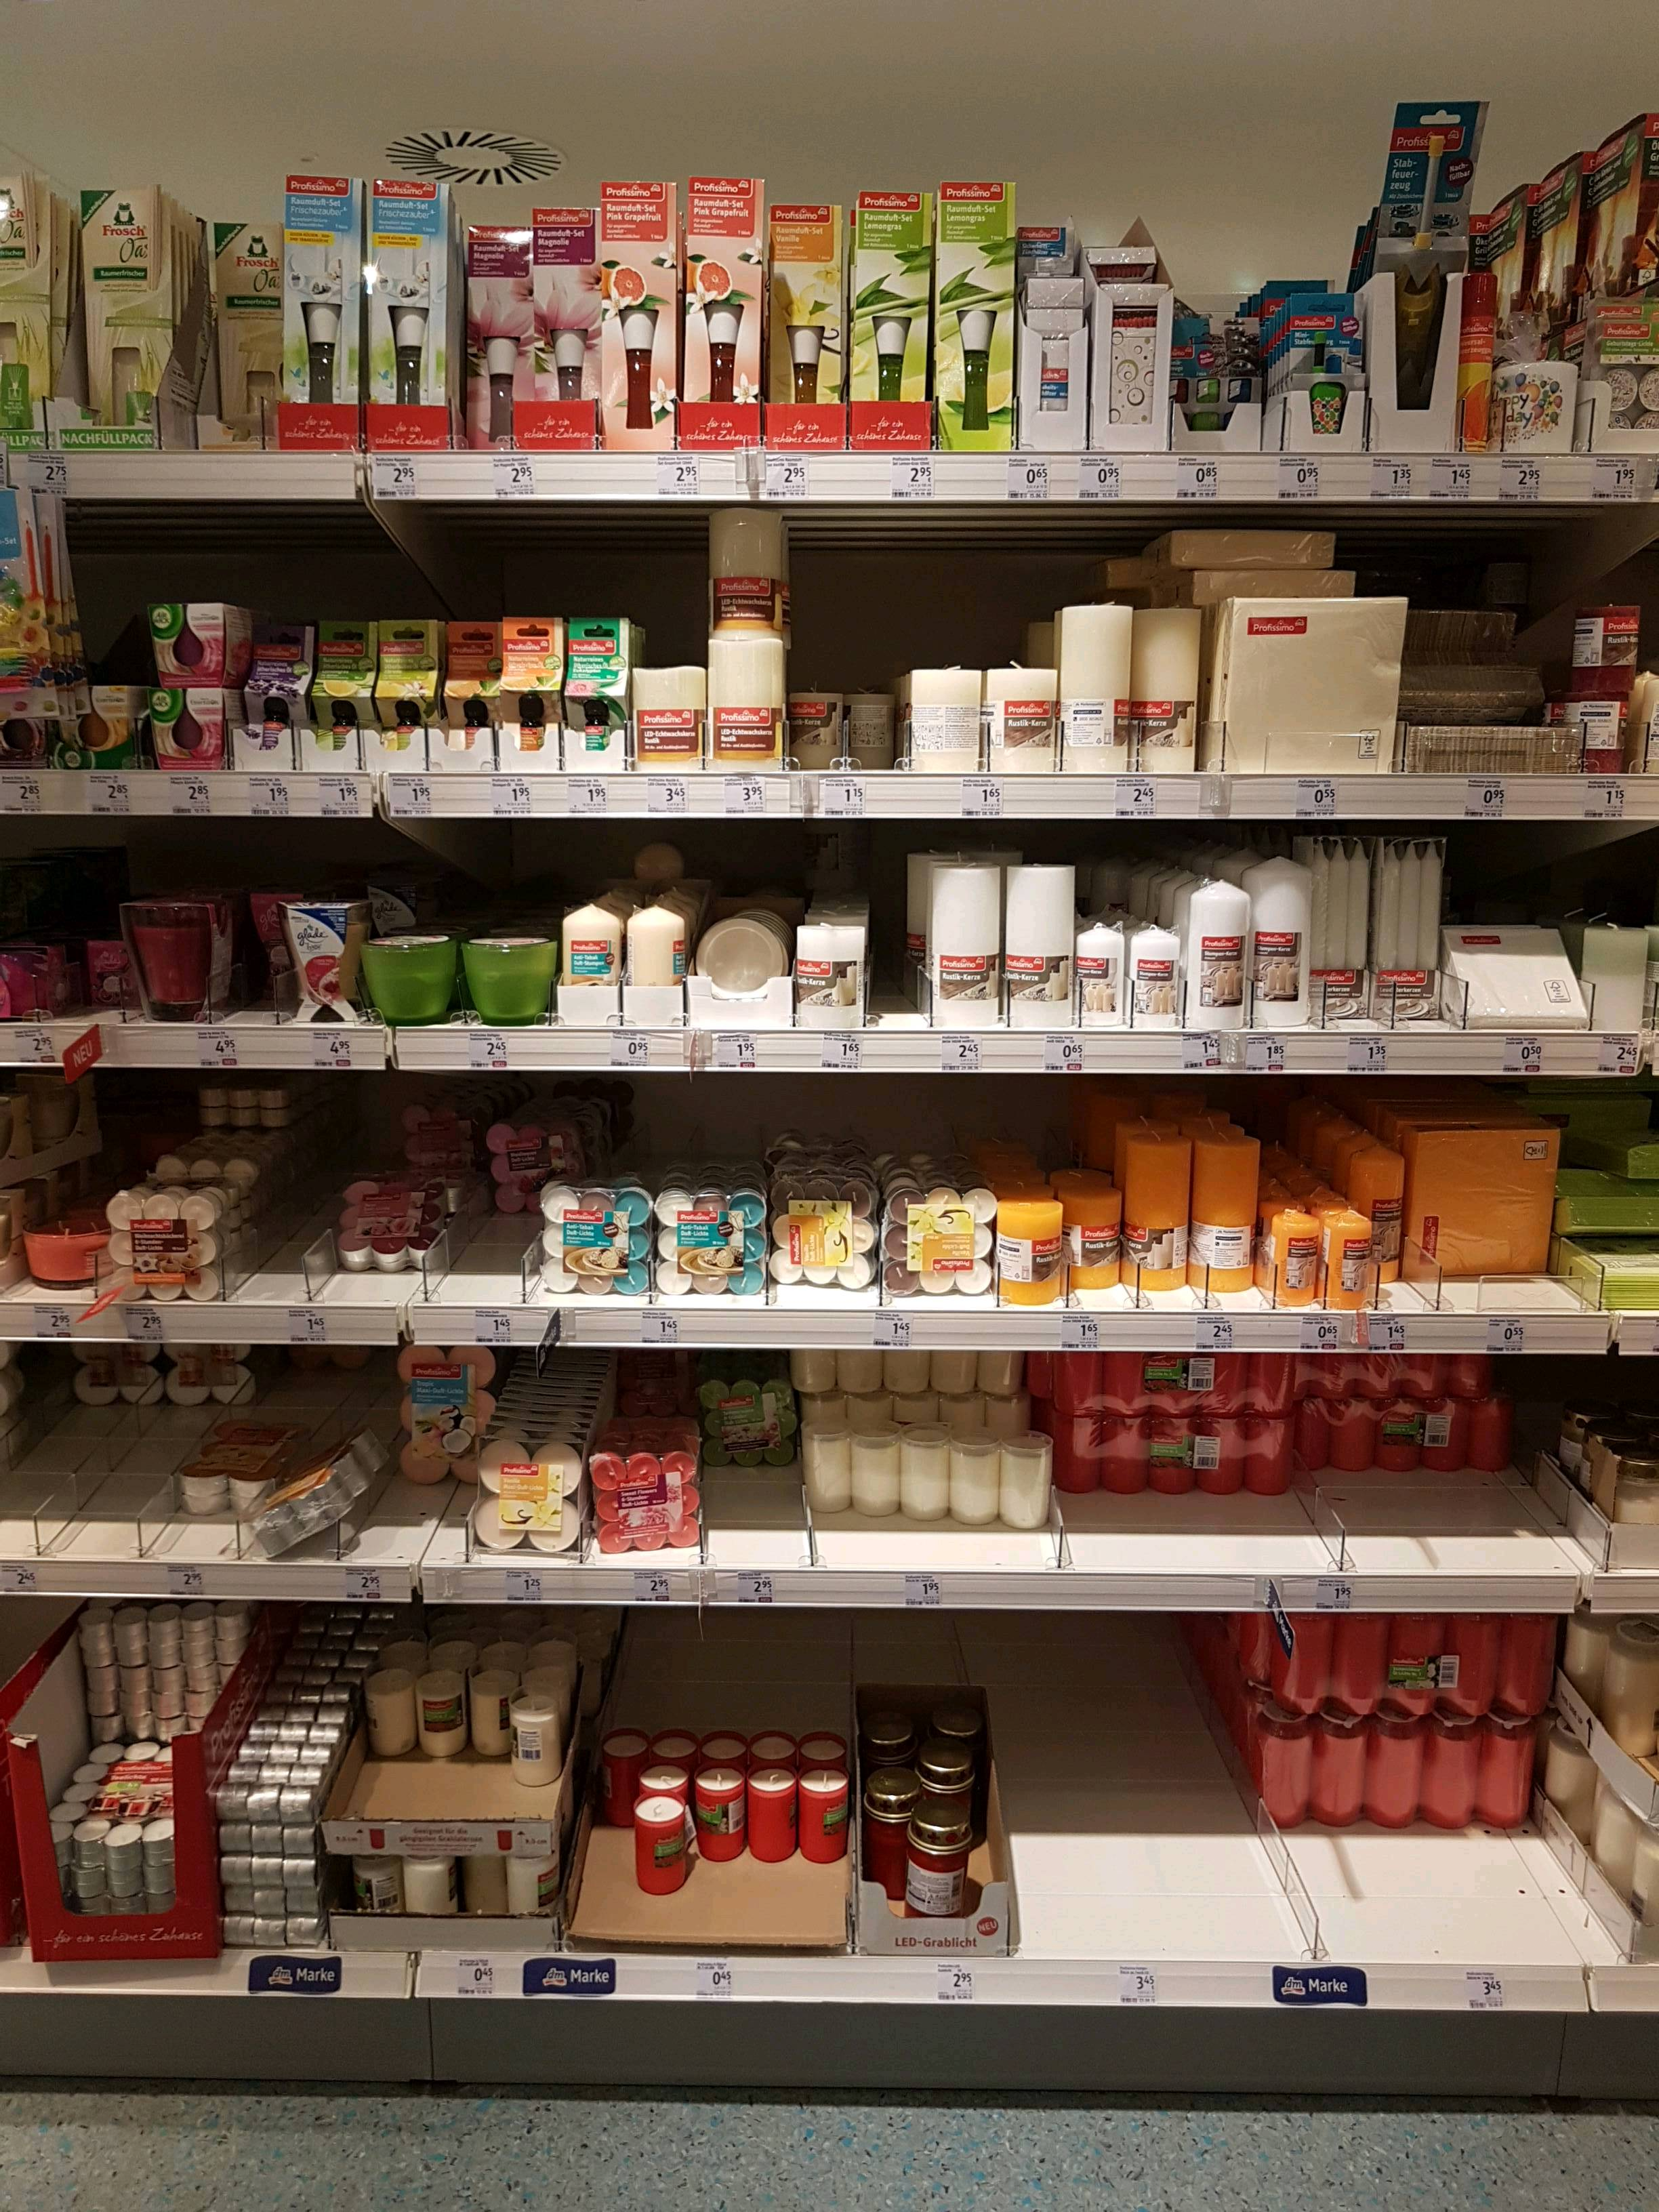product: (21, 1745, 211, 1956), (1215, 592, 1396, 775), (1370, 105, 1457, 449), (80, 183, 173, 441), (1413, 1123, 1556, 1275), (368, 176, 446, 448), (284, 172, 361, 449), (1399, 589, 1551, 719), (857, 190, 932, 451), (603, 178, 674, 451), (687, 176, 758, 449), (75, 1601, 216, 1738), (938, 181, 1009, 453), (767, 204, 843, 453), (214, 1785, 314, 1956), (530, 206, 598, 453), (1446, 911, 1586, 1026), (1023, 219, 1089, 456), (1093, 247, 1168, 451), (467, 216, 528, 451), (216, 216, 275, 444), (652, 1184, 765, 1301), (108, 1191, 228, 1301), (1283, 294, 1366, 449), (481, 1433, 580, 1562), (1129, 596, 1202, 770), (1171, 310, 1258, 456), (122, 897, 220, 1028), (884, 1181, 988, 1301), (545, 1177, 648, 1298), (1060, 594, 1126, 779), (338, 1160, 443, 1277), (936, 852, 1004, 1031), (772, 1170, 873, 1291), (1194, 1120, 1263, 1294), (1007, 852, 1075, 1028), (598, 1451, 699, 1568), (277, 890, 361, 1024), (1384, 833, 1441, 1024), (403, 1339, 477, 1482), (1126, 1125, 1187, 1296), (303, 615, 368, 773), (1258, 841, 1312, 1029), (711, 496, 786, 631), (709, 639, 782, 775), (701, 916, 791, 1024), (1194, 873, 1253, 1036), (1319, 829, 1370, 1017), (561, 613, 620, 773), (906, 1784, 965, 1939), (40, 679, 139, 772), (364, 932, 457, 1031), (1588, 906, 1657, 1033), (385, 1059, 477, 1155), (1495, 359, 1589, 451), (467, 930, 556, 1028), (498, 613, 552, 773), (1399, 723, 1565, 775), (375, 613, 429, 770), (281, 1465, 361, 1569), (441, 617, 493, 775), (908, 662, 981, 775), (1603, 1609, 1659, 1757), (985, 660, 1056, 773), (704, 1369, 786, 1467), (997, 1191, 1065, 1308), (164, 1331, 256, 1414), (1600, 1440, 1659, 1569), (629, 900, 688, 1028), (64, 1329, 157, 1407), (19, 1204, 92, 1301), (249, 622, 295, 779), (633, 665, 701, 770), (805, 916, 868, 1029), (568, 900, 622, 1028), (150, 690, 225, 780), (146, 603, 230, 683), (1596, 359, 1659, 460), (1572, 599, 1643, 686), (1328, 1205, 1385, 1312), (1272, 1609, 1330, 1716), (1004, 1426, 1058, 1536), (176, 1458, 263, 1526), (1432, 1719, 1481, 1839), (1507, 1609, 1560, 1721), (1068, 1181, 1121, 1292), (1373, 1717, 1424, 1832), (1568, 688, 1635, 775), (1490, 1723, 1542, 1832), (1312, 1721, 1363, 1832), (1256, 1721, 1305, 1836), (507, 1843, 558, 1952), (1335, 1604, 1385, 1714), (633, 1789, 681, 1900), (863, 1764, 899, 1912), (1452, 1602, 1499, 1717), (3, 848, 61, 942), (1270, 1205, 1323, 1308), (1169, 531, 1338, 563), (1392, 1609, 1443, 1714), (697, 1766, 746, 1874), (1563, 1184, 1657, 1240), (420, 1663, 471, 1766), (516, 1695, 568, 1792), (1464, 270, 1492, 451), (1572, 1116, 1659, 1174), (355, 1846, 401, 1956), (800, 1761, 845, 1871), (0, 948, 63, 1026), (1082, 911, 1124, 1028), (845, 685, 901, 772), (904, 1420, 950, 1526), (786, 683, 842, 768), (850, 1423, 901, 1517), (192, 1078, 288, 1127), (410, 1846, 455, 1949), (1136, 923, 1180, 1029), (1586, 291, 1659, 354), (594, 1721, 629, 1848), (803, 1416, 847, 1517), (488, 1123, 535, 1216), (462, 1844, 502, 1952), (364, 1670, 410, 1764), (957, 1426, 997, 1533), (751, 1766, 793, 1867), (1105, 1416, 1154, 1501), (1342, 1132, 1399, 1204), (1249, 1413, 1297, 1498), (1188, 564, 1361, 587), (1201, 1416, 1248, 1498), (1058, 1416, 1100, 1501), (1157, 1416, 1197, 1501), (1593, 1259, 1659, 1308), (1105, 1346, 1152, 1414), (78, 934, 119, 1010), (1382, 1406, 1424, 1477), (1058, 1346, 1101, 1414), (477, 1670, 511, 1759), (1249, 1350, 1297, 1409), (1157, 1348, 1199, 1413), (1473, 1402, 1511, 1472), (1429, 1404, 1467, 1474), (1342, 1404, 1380, 1474), (1304, 1397, 1338, 1474), (791, 1343, 833, 1402), (838, 1346, 882, 1402), (1208, 1353, 1246, 1414), (931, 1346, 978, 1395), (885, 1346, 925, 1397), (1406, 1348, 1446, 1399), (981, 1346, 1019, 1395), (1453, 1353, 1493, 1399), (1366, 1348, 1399, 1399), (1319, 1346, 1352, 1393), (1028, 1346, 1051, 1399)
